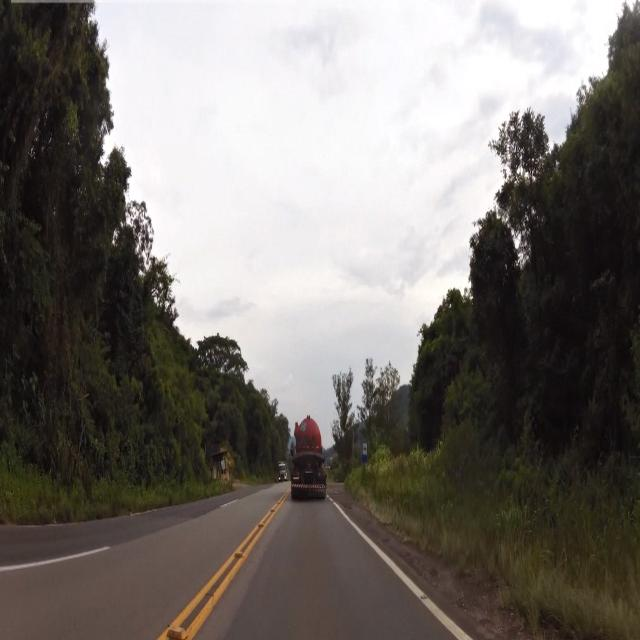S-14: (360, 435, 368, 468)
